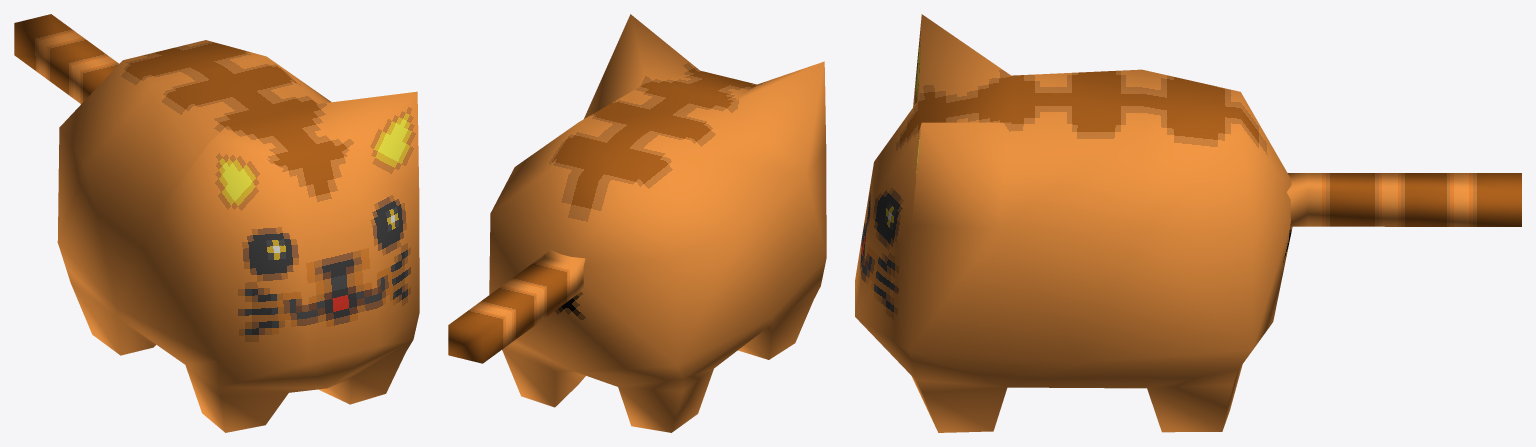
The model's file is Cat [B].obj.
3 renders of one model, left to right at view 1: azimuth 30°, elevation 25°; view 2: azimuth 150°, elevation 25°; view 3: azimuth 270°, elevation 25°, orthographic. The views are drawn at different scales.
Visible parts, largest first — view 1: polygon0, polygon1; view 2: polygon0, polygon1; view 3: polygon0, polygon1.
Boxes of the visible parts, <box> form: polygon0: <box>57,40,419,397</box>; polygon1: <box>14,14,405,432</box>; polygon0: <box>491,14,826,366</box>; polygon1: <box>448,170,813,432</box>; polygon0: <box>855,14,1291,392</box>; polygon1: <box>911,136,1521,432</box>.
Size of the model in its own units: 1.15 by 1.33 by 2.49.
